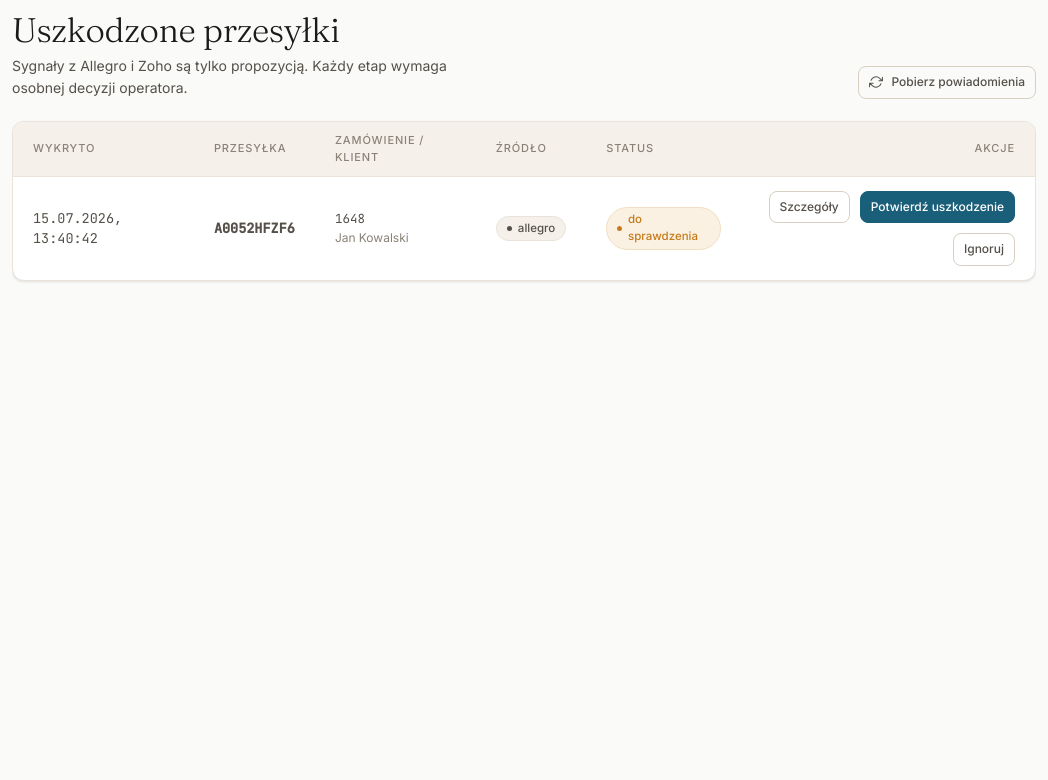
DamageView › shows a detected issue and requires explicit confirmation
Expected: the text "do sprawdzenia" is shown, x1=606 y1=207 x2=722 y2=250
Expected: the button "Potwierdź uszkodzenie" is shown, x1=860 y1=191 x2=1015 y2=224
Click the button "Szczegóły".
click(809, 207)  # box x1=768 y1=191 x2=850 y2=224
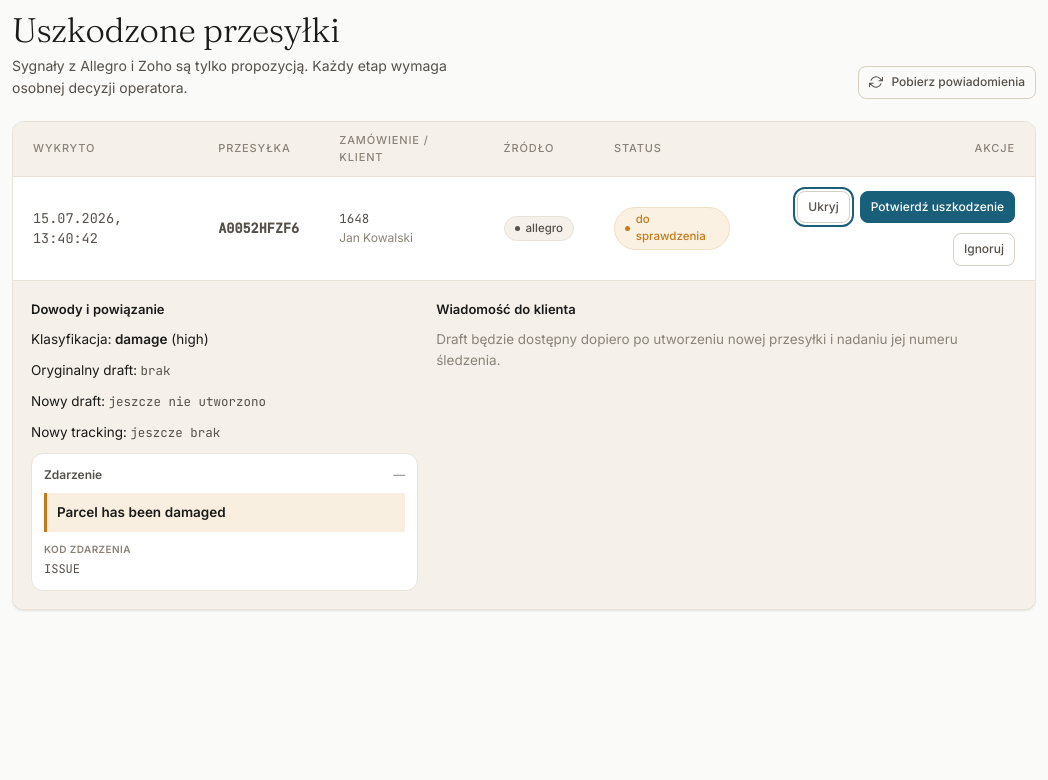
Expected: the text "Parcel has been damaged" is shown, x1=44 y1=494 x2=405 y2=532
Expected: the text "Kod zdarzenia" is shown, x1=44 y1=543 x2=131 y2=555
Click the button "Potwierdź uszkodzenie".
click(937, 207)  # box x1=860 y1=191 x2=1015 y2=224
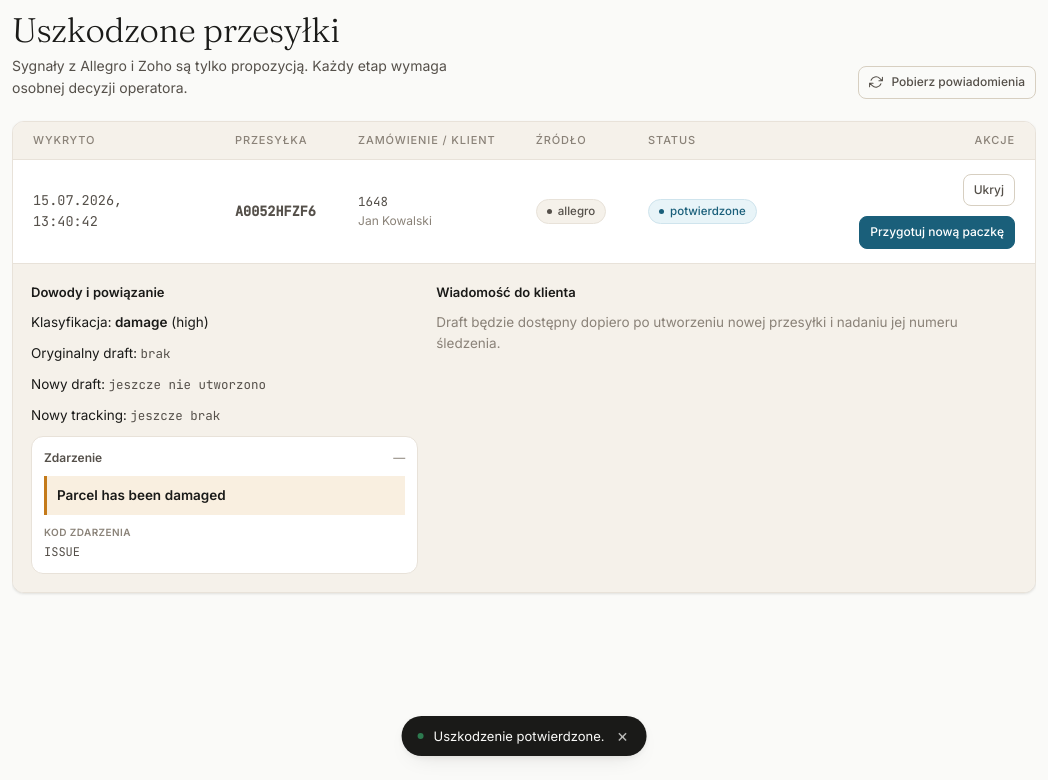
Expected: the text "potwierdzone" is shown, x1=648 y1=198 x2=757 y2=224
Expected: the text "Uszkodzenie potwierdzone." is shown, x1=434 y1=726 x2=604 y2=746
